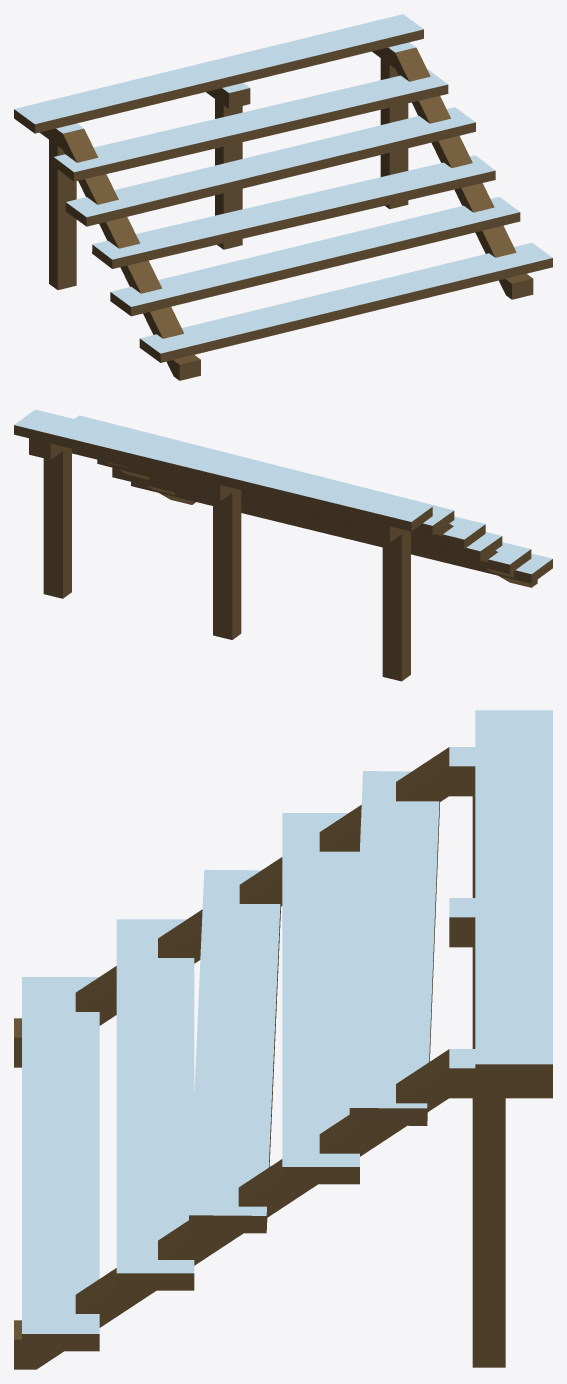
The model's file is model_polytope_snow_wood_stairs.fbx.
The picture shows the model from 3 angles, top to bottom: view 1: azimuth 30°, elevation 25°; view 2: azimuth 150°, elevation 25°; view 3: azimuth 270°, elevation 25°; orthographic projection. The views are drawn at different scales.
Visible parts, largest first — view 1: model_polytope_snow_wood_stairs; view 2: model_polytope_snow_wood_stairs; view 3: model_polytope_snow_wood_stairs.
Part boxes in pixels (box(x1,y1,x2,y2)): model_polytope_snow_wood_stairs: box(14, 14, 552, 380); model_polytope_snow_wood_stairs: box(14, 409, 552, 681); model_polytope_snow_wood_stairs: box(14, 710, 552, 1369).
Bounding box in the file's own units: 209 × 86.14 × 132.
1 material, 1 textured.
